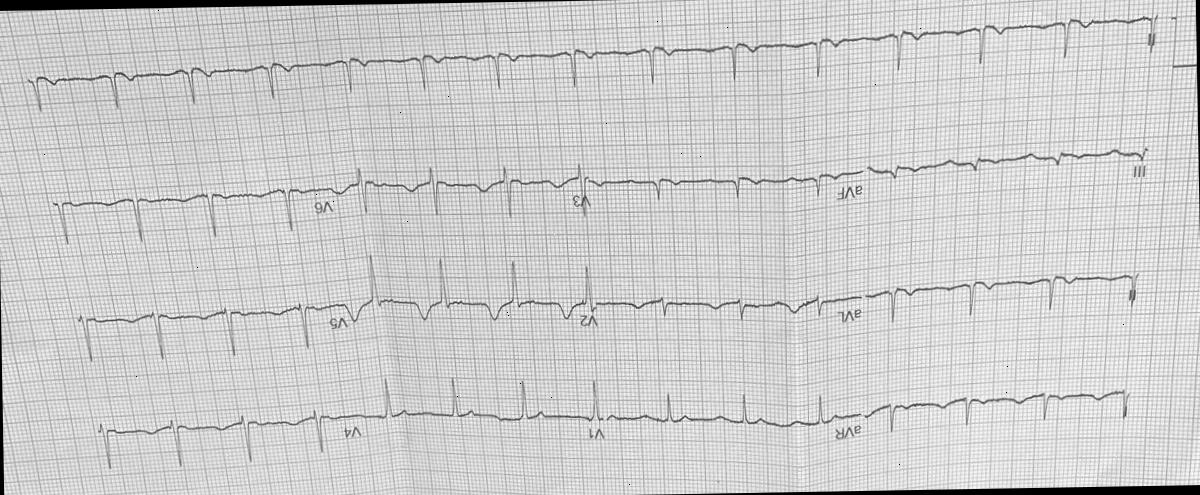Lead_I: (859, 373, 1134, 443)
Lead_II: (858, 264, 1151, 326)
Lead_III: (864, 128, 1160, 199)
Lead_II_ext: (11, 4, 1168, 118)
Lead_V1: (374, 360, 608, 460)
Lead_V2: (352, 237, 602, 344)
Lead_V3: (339, 147, 598, 238)
Lead_V4: (82, 394, 374, 473)
Lead_V5: (66, 281, 358, 375)
Lead_V6: (35, 172, 348, 261)
Lead_aVF: (588, 142, 868, 217)
Lead_aVL: (592, 265, 864, 342)
Lead_aVR: (605, 372, 869, 457)
